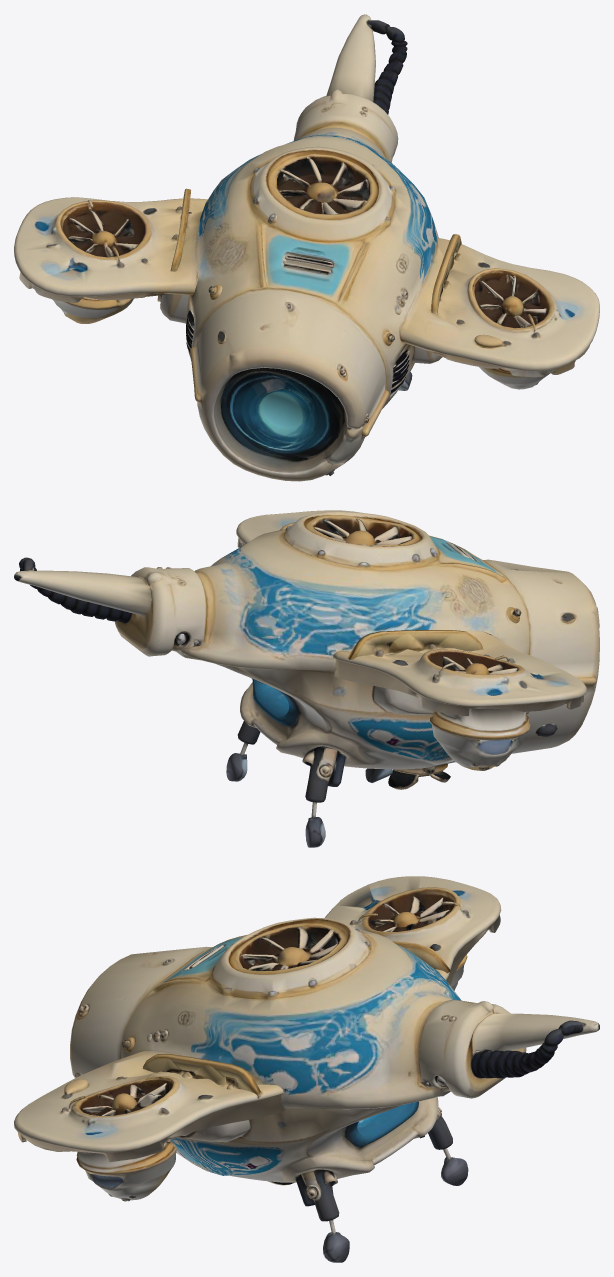
File: spinner.glb
3 renders of one model, top to bottom at view 1: azimuth 30°, elevation 25°; view 2: azimuth 150°, elevation 25°; view 3: azimuth 270°, elevation 25°, orthographic. The views are drawn at different scales.
Visible parts, largest first — view 1: tripo_node_c4243b52-d8b2-45ca-b786-445c159473e7; view 2: tripo_node_c4243b52-d8b2-45ca-b786-445c159473e7; view 3: tripo_node_c4243b52-d8b2-45ca-b786-445c159473e7.
Boxes of the visible parts, x1,y1,x2,y2 form: tripo_node_c4243b52-d8b2-45ca-b786-445c159473e7: (14, 14, 599, 481); tripo_node_c4243b52-d8b2-45ca-b786-445c159473e7: (14, 510, 599, 847); tripo_node_c4243b52-d8b2-45ca-b786-445c159473e7: (14, 876, 599, 1262).
Bounding box in the file's own units: 0.9644 × 0.5386 × 0.9995.
1 material, 1 textured.
